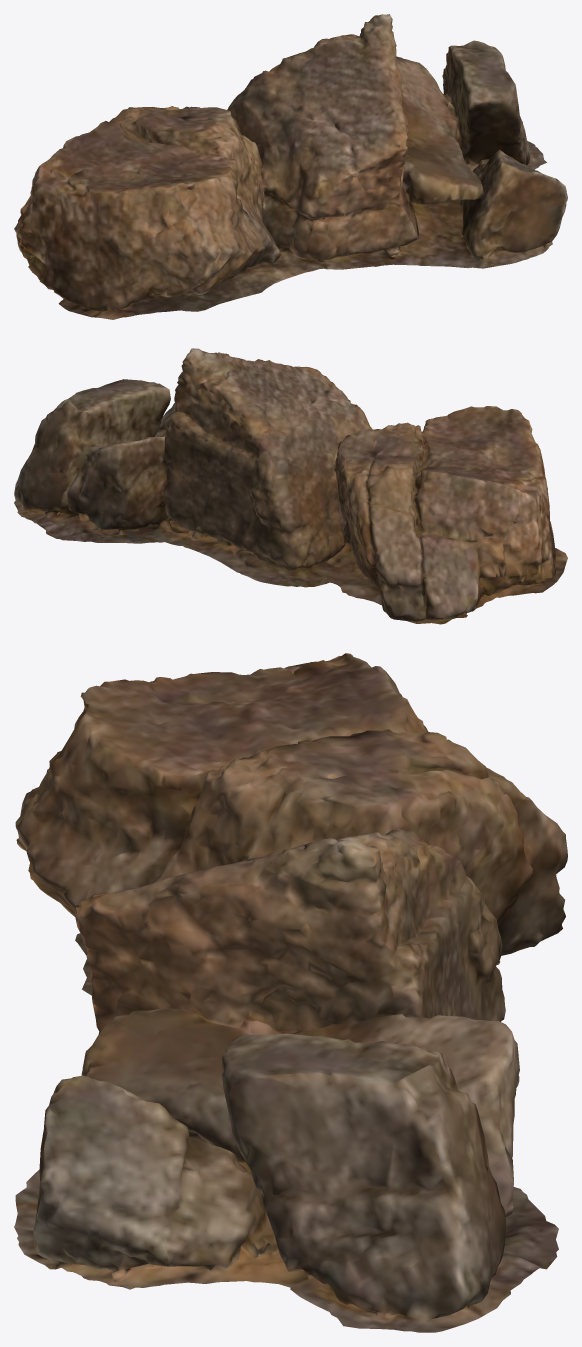
The model's file is namaqualand_boulder_02.glb.
3 views of the same model, one above another, from view 1: azimuth 30°, elevation 25°; view 2: azimuth 150°, elevation 25°; view 3: azimuth 270°, elevation 25° (orthographic). The views are drawn at different scales.
Parts seen in each view (by area): view 1: boulder_02; view 2: boulder_02; view 3: boulder_02.
Boxes of the visible parts, left/top/right/bottom form: boulder_02: left=14, top=14, right=567, bottom=319; boulder_02: left=14, top=348, right=567, bottom=624; boulder_02: left=14, top=653, right=567, bottom=1332.
Bounding box in the file's own units: 2.53 × 0.8826 × 1.23.
Materials: 1 (1 with a texture image).
